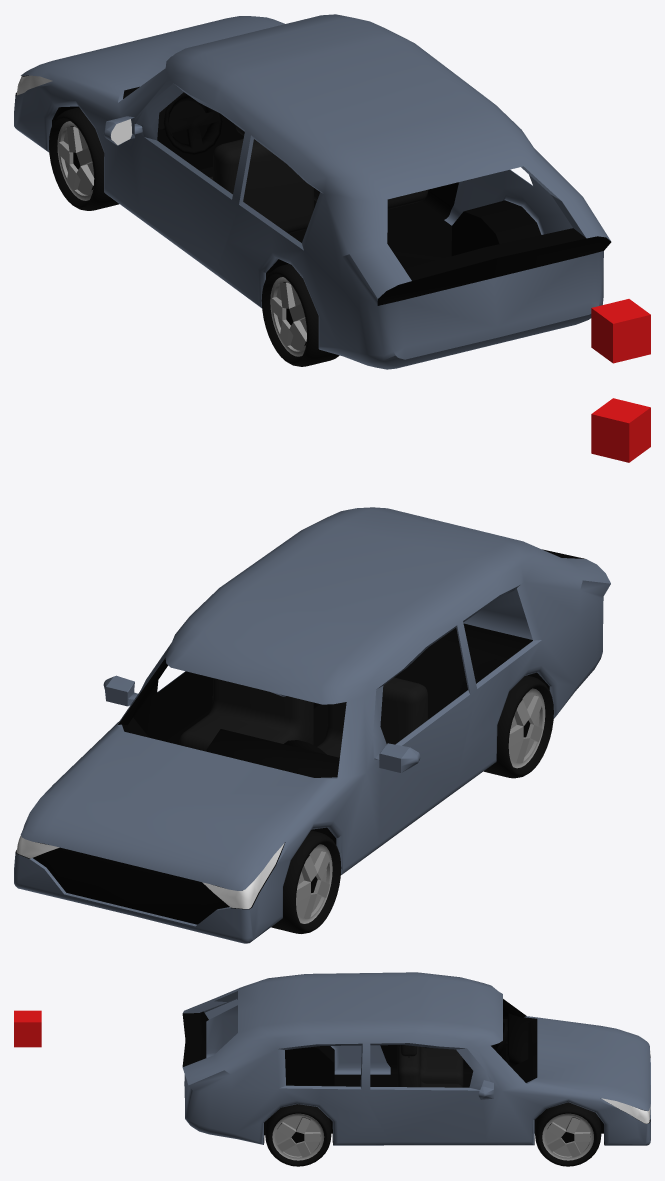
The model's file is car(2).fbx.
3 views of the same model, one above another, from view 1: azimuth 30°, elevation 25°; view 2: azimuth 150°, elevation 25°; view 3: azimuth 270°, elevation 25° (orthographic). The views are drawn at different scales.
Visible parts, largest first — view 1: CarBody, RoadWheels, Cube.003, SteeringWheel; view 2: CarBody, RoadWheels, Dashboard, Cube.003; view 3: CarBody, RoadWheels, Cube.003, Dashboard.
Boxes of the visible parts, bbox=[...] form: CarBody: bbox=[14, 14, 611, 369]; RoadWheels: bbox=[49, 107, 339, 366]; Cube.003: bbox=[591, 299, 650, 363]; SteeringWheel: bbox=[164, 92, 222, 154]; CarBody: bbox=[14, 507, 610, 943]; RoadWheels: bbox=[271, 675, 553, 933]; Dashboard: bbox=[206, 729, 339, 777]; Cube.003: bbox=[591, 398, 650, 462]; CarBody: bbox=[182, 972, 650, 1145]; RoadWheels: bbox=[265, 1102, 601, 1166]; Cube.003: bbox=[14, 1010, 41, 1047]; Dashboard: bbox=[507, 1013, 528, 1067].
Size of the model in its own units: 695 by 442 by 1926.
